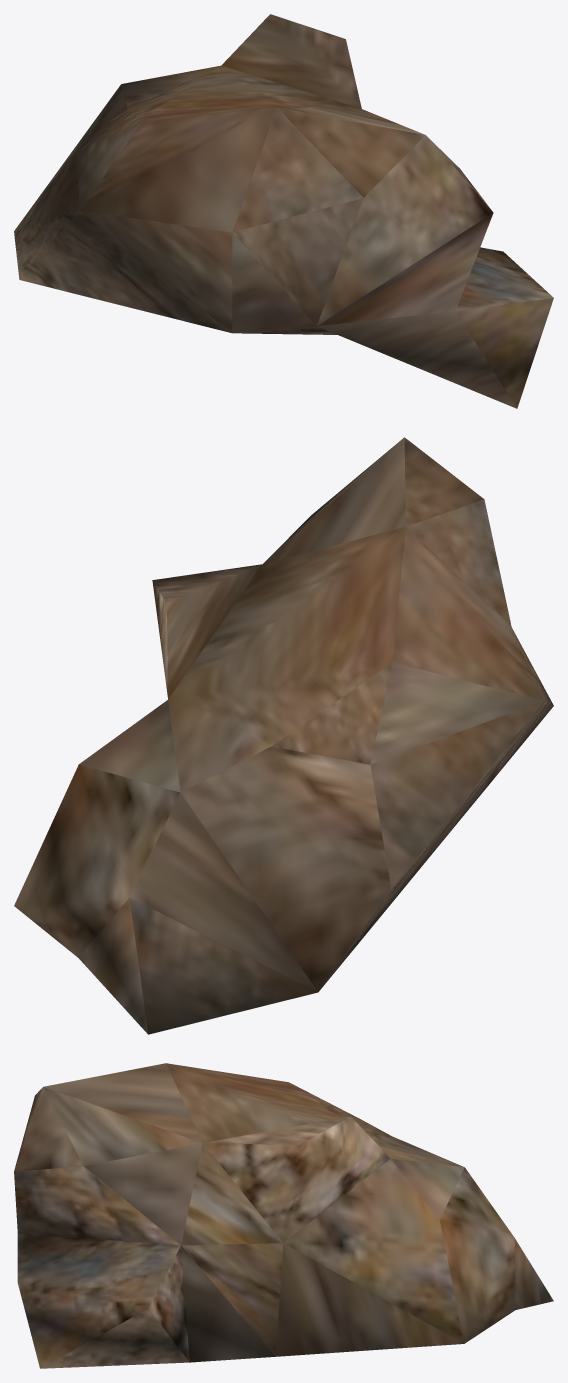
File: rock_c_lod1.glb
3 views of the same model, one above another, from view 1: azimuth 30°, elevation 25°; view 2: azimuth 150°, elevation 25°; view 3: azimuth 270°, elevation 25° (orthographic). The views are drawn at different scales.
Parts seen in each view (by area): view 1: rock; view 2: rock; view 3: rock.
Boxes of the visible parts, x1,y1,x2,y2 form: rock: [14, 14, 553, 408]; rock: [14, 437, 553, 1034]; rock: [14, 1063, 553, 1368].
Size of the model in its own units: 1.88 by 1.4 by 2.8.
1 material, 1 textured.
